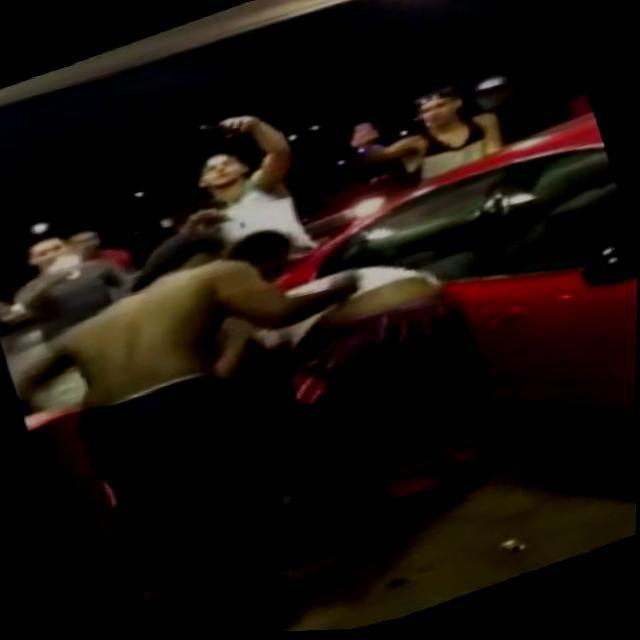fight: (74, 150, 528, 638)
